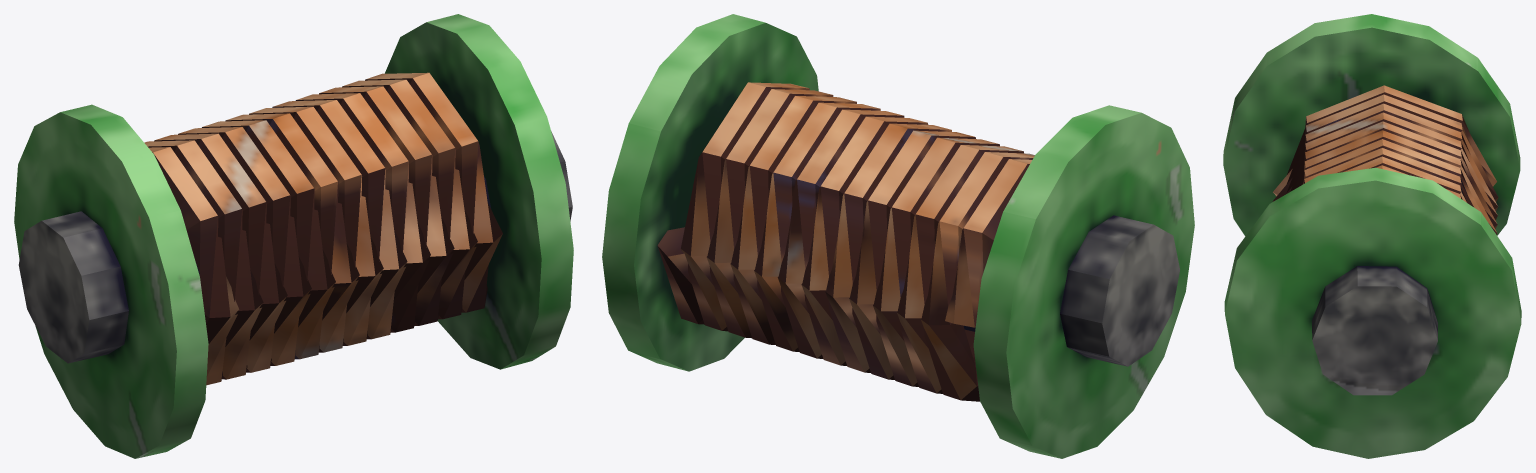
File: CopperCoil.glb
The picture shows the model from 3 angles, left to right: view 1: azimuth 30°, elevation 25°; view 2: azimuth 150°, elevation 25°; view 3: azimuth 270°, elevation 25°; orthographic projection. The views are drawn at different scales.
Parts seen in each view (by area): view 1: Winding, Flanges, Core; view 2: Winding, Flanges, Core; view 3: Flanges, Winding, Core.
Boxes of the visible parts, x1=… form: Winding: x1=144, y1=72, x2=502, y2=385; Flanges: x1=14, y1=14, x2=573, y2=458; Core: x1=18, y1=131, x2=572, y2=363; Winding: x1=657, y1=82, x2=1034, y2=401; Flanges: x1=602, y1=14, x2=1194, y2=458; Core: x1=963, y1=215, x2=1179, y2=366; Flanges: x1=1223, y1=14, x2=1521, y2=458; Winding: x1=1272, y1=85, x2=1498, y2=234; Core: x1=1312, y1=266, x2=1437, y2=395.
Bounding box in the file's own units: 0.939 × 0.5961 × 0.5847.
Materials: 3 (3 with a texture image).
